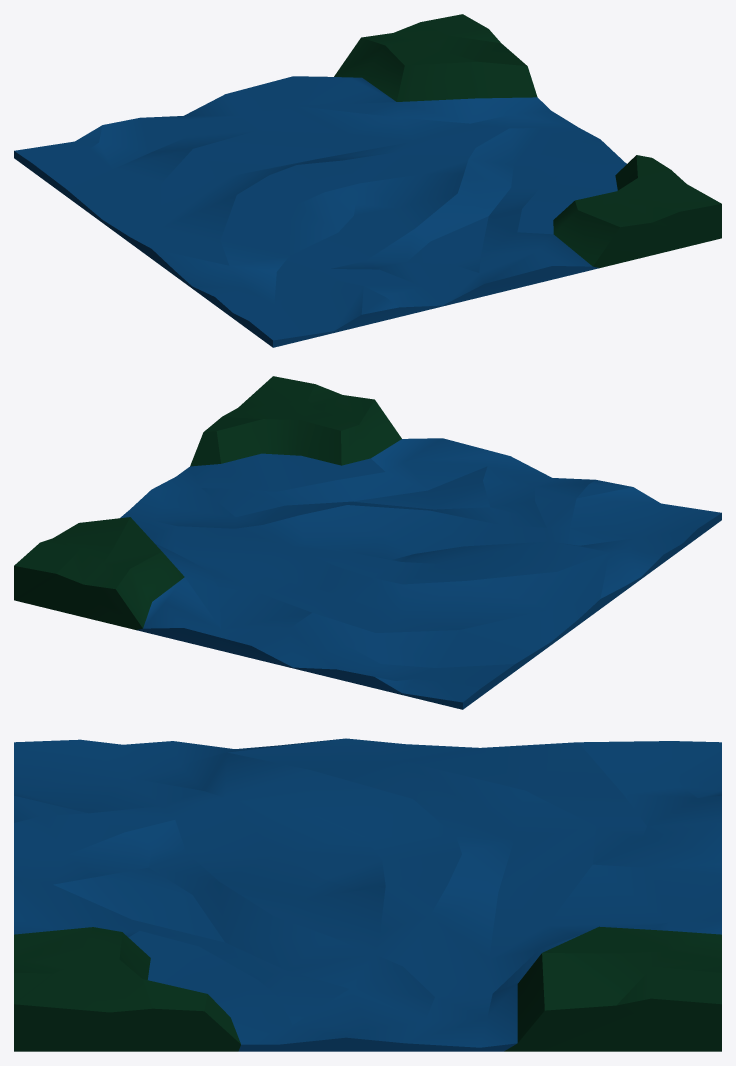
The model's file is Water_River_Entrance_R.fbx.
3 renders of one model, top to bottom at view 1: azimuth 30°, elevation 25°; view 2: azimuth 150°, elevation 25°; view 3: azimuth 270°, elevation 25°, orthographic. The views are drawn at different scales.
Visible parts, largest first — view 1: Water_River_Entrance_R; view 2: Water_River_Entrance_R; view 3: Water_River_Entrance_R.
Boxes of the visible parts, x1,y1,x2,y2 form: Water_River_Entrance_R: (14,14,721,347); Water_River_Entrance_R: (14,376,721,709); Water_River_Entrance_R: (14,738,721,1051).
Size of the model in its own units: 147 by 15.12 by 147.
